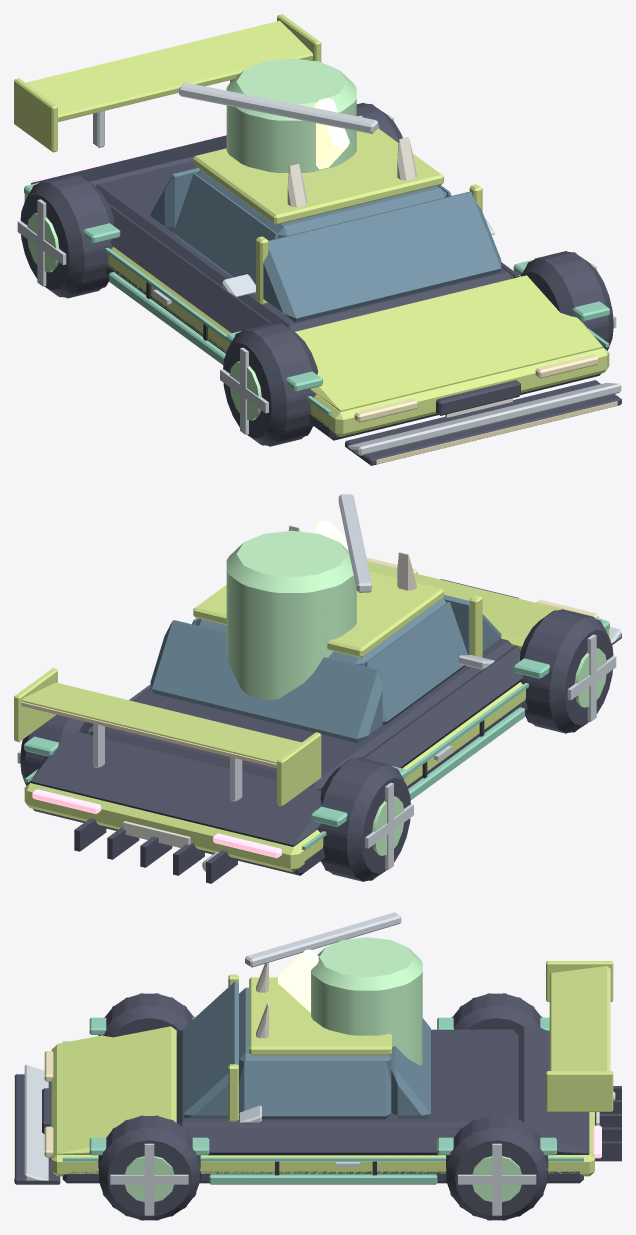
Rendered from dream_drummer.fbx.
The picture shows the model from 3 angles, top to bottom: view 1: azimuth 30°, elevation 25°; view 2: azimuth 150°, elevation 25°; view 3: azimuth 270°, elevation 25°; orthographic projection. The views are drawn at different scales.
Visible parts, largest first — view 1: Body, Glass, Trim, Accent3, Accent2, Wheel_RR, Wheel_FR, Accent, Wheel_FL, Metal, Light, Metal2 (+3 smaller); view 2: Trim, Body, Glass, Accent3, Wheel_FR, Wheel_RR, Accent, Metal, Accent2, Light, Metal2, Wheel_RL (+3 smaller); view 3: Body, Trim, Glass, Accent3, Wheel_RL, Wheel_FL, Accent, Accent2, Metal, Wheel_FR, Wheel_RR, Metal2 (+3 smaller).
Boxes of the visible parts, <box> form: Body: <box>14,14,609,436</box>; Glass: <box>150,125,501,322</box>; Trim: <box>31,135,621,465</box>; Accent3: <box>226,58,356,172</box>; Accent2: <box>179,82,621,455</box>; Wheel_RR: <box>20,174,113,298</box>; Wheel_FR: <box>223,322,318,446</box>; Accent: <box>24,182,609,415</box>; Wheel_FL: <box>520,251,613,350</box>; Metal: <box>17,79,616,434</box>; Light: <box>354,354,617,464</box>; Metal2: <box>27,213,261,420</box>; Trim: <box>31,579,621,883</box>; Body: <box>14,561,609,872</box>; Glass: <box>150,594,501,743</box>; Accent3: <box>226,530,356,700</box>; Wheel_FR: <box>520,609,613,733</box>; Wheel_RR: <box>317,757,410,881</box>; Accent: <box>24,618,609,850</box>; Metal: <box>17,634,616,871</box>; Accent2: <box>338,494,621,669</box>; Light: <box>21,557,598,768</box>; Metal2: <box>372,648,606,855</box>; Wheel_RL: <box>20,715,92,785</box>; Body: <box>51,961,613,1176</box>; Trim: <box>14,1026,621,1184</box>; Glass: <box>183,982,430,1119</box>; Accent3: <box>239,937,422,1114</box>; Wheel_RL: <box>446,1115,548,1220</box>; Wheel_FL: <box>98,1115,200,1220</box>; Accent: <box>62,1017,583,1184</box>; Accent2: <box>24,912,401,1180</box>; Metal: <box>110,1091,615,1215</box>; Wheel_FR: <box>98,993,194,1037</box>; Wheel_RR: <box>452,993,542,1034</box>; Metal2: <box>124,1156,521,1201</box>.
Bounding box in the file's own units: 3.2 × 2.05 × 5.6.
